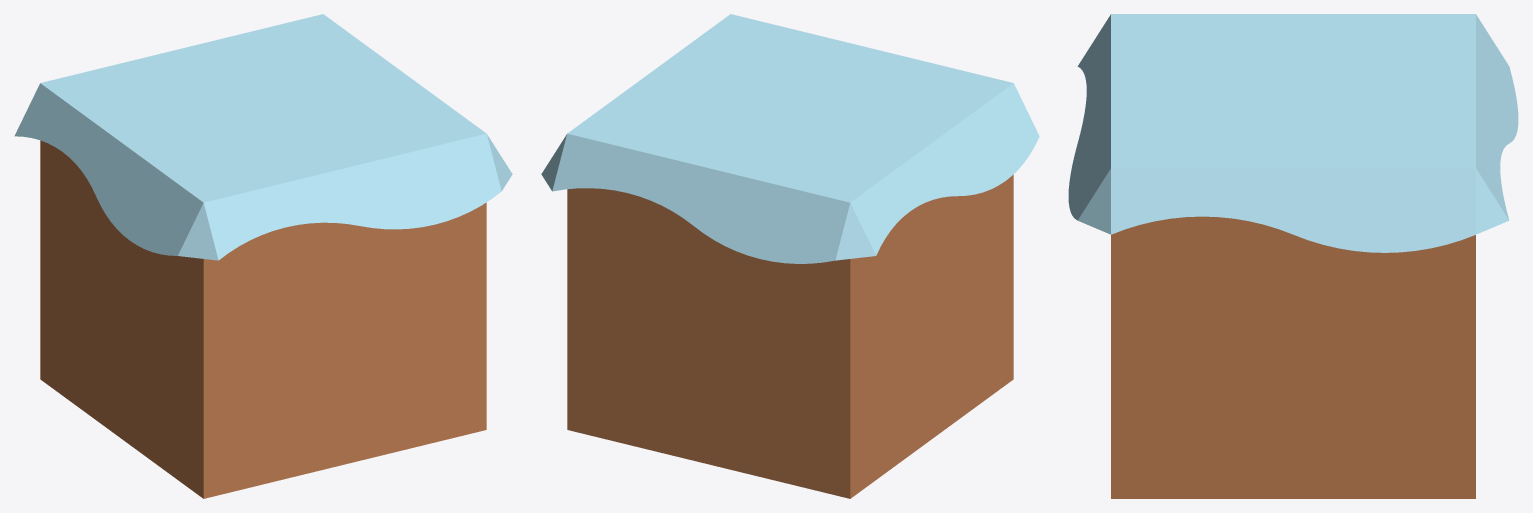
Rendered from blockSnow.fbx.
3 renders of one model, left to right at view 1: azimuth 30°, elevation 25°; view 2: azimuth 150°, elevation 25°; view 3: azimuth 270°, elevation 25°, orthographic. The views are drawn at different scales.
Parts seen in each view (by area): view 1: blockSnow; view 2: blockSnow; view 3: blockSnow.
Part boxes in pixels (left/top/right/bottom): blockSnow: left=14, top=14, right=512, bottom=498; blockSnow: left=541, top=14, right=1039, bottom=498; blockSnow: left=1068, top=14, right=1518, bottom=498.
Size of the model in its own units: 12.33 by 10 by 12.33.
